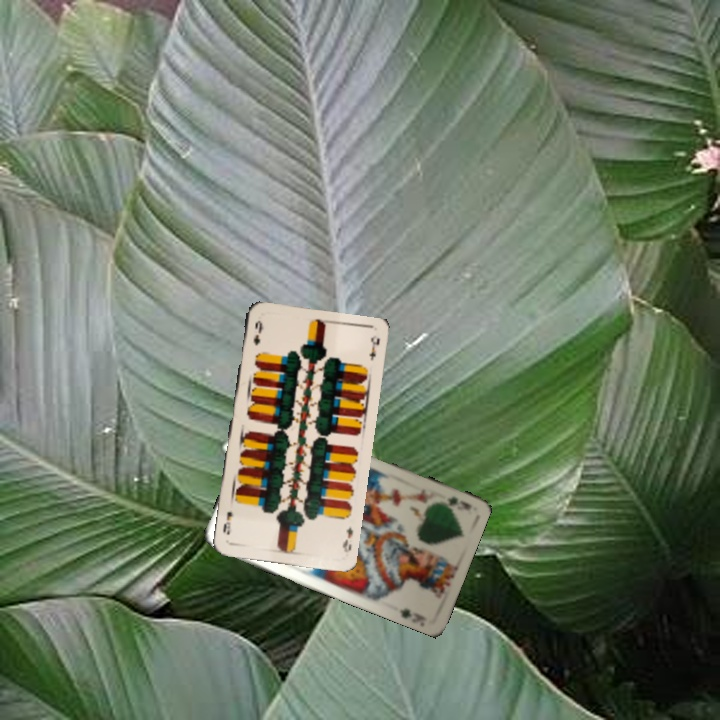E9: (338, 523, 356, 555), (249, 316, 265, 348)
GK: (434, 493, 461, 508)
